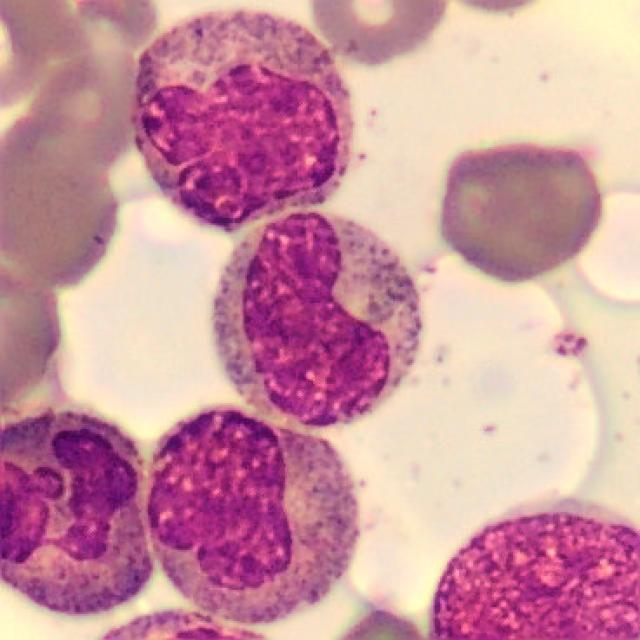Metamielocito: (209, 210, 427, 431)
Neutrofilo segmentado: (129, 10, 353, 232)
